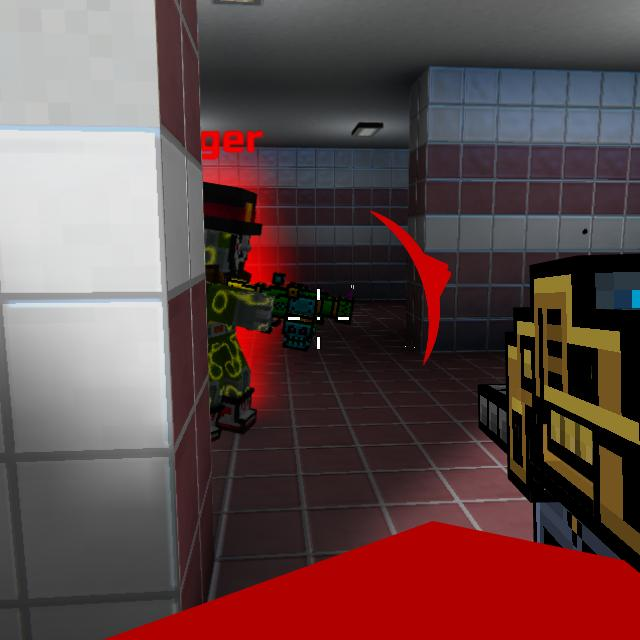Enemy: (202, 181, 276, 441)
